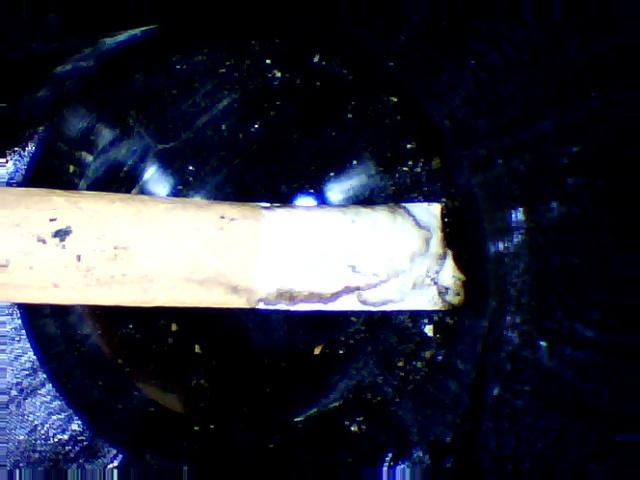megot: (4, 173, 474, 321)
